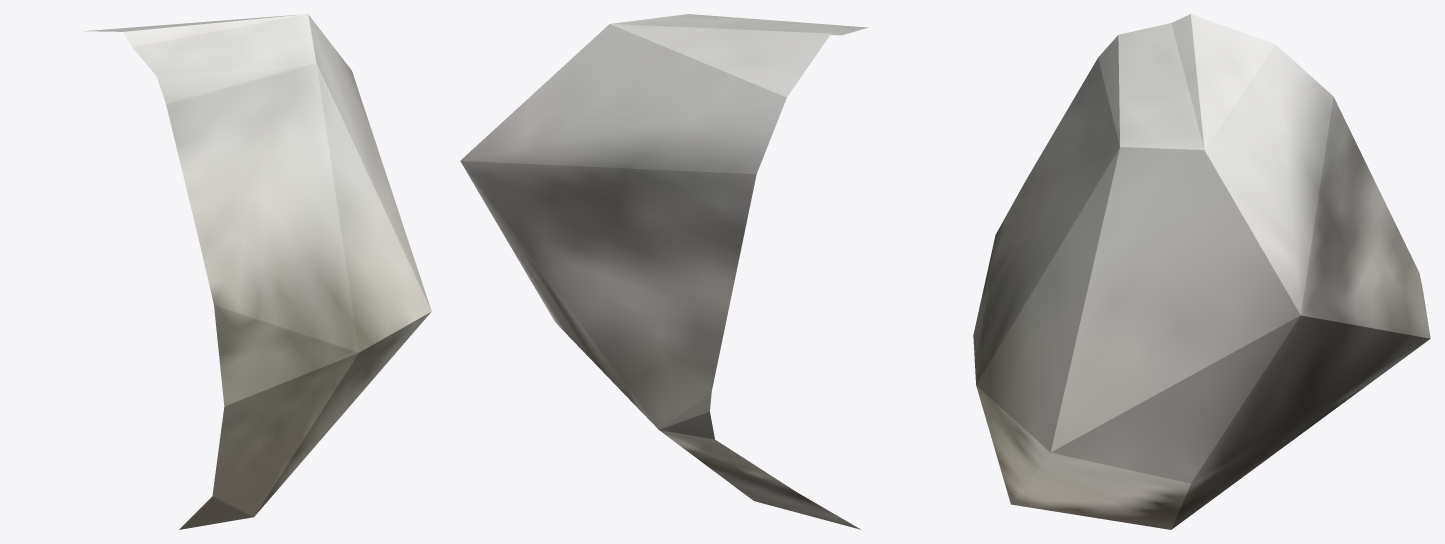
3 renders of one model, left to right at view 1: azimuth 30°, elevation 25°; view 2: azimuth 150°, elevation 25°; view 3: azimuth 270°, elevation 25°, orthographic. The views are drawn at different scales.
Size of the model in its own units: 0.1324 by 0.2093 by 0.1747.
1 material, 1 textured.
